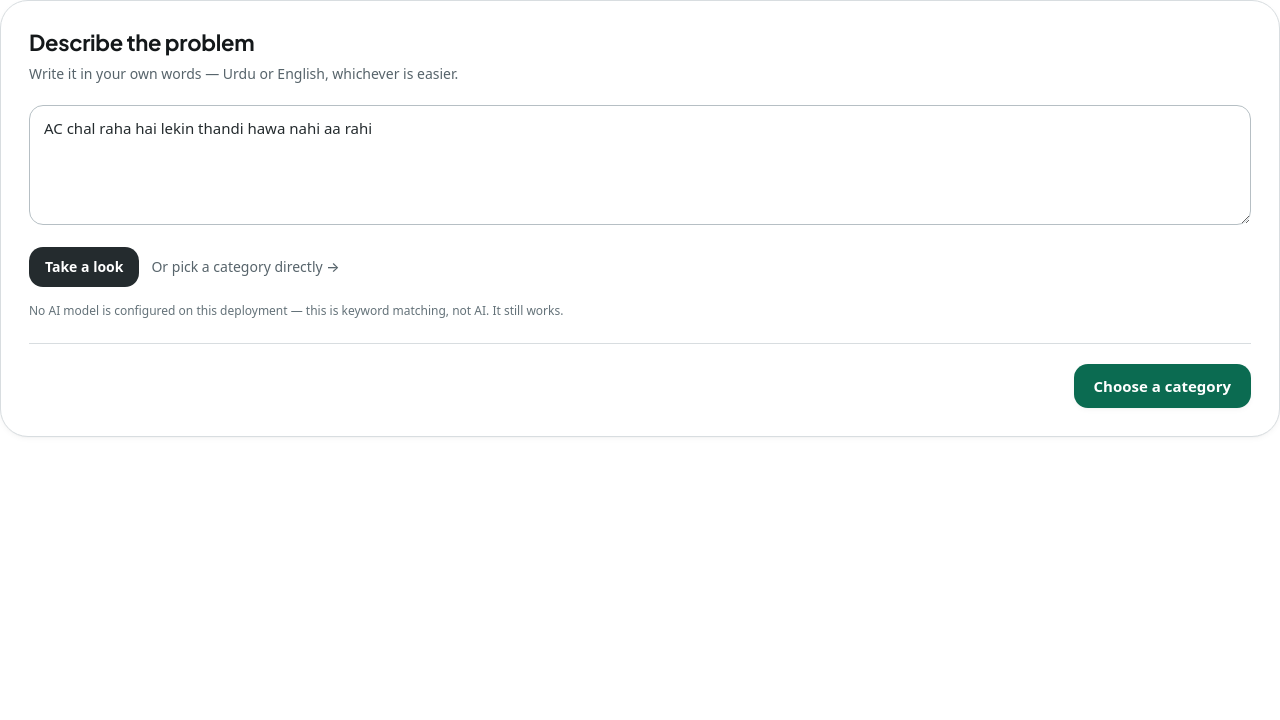
Test: intake step › labels a rule-based answer as rule-based, not as AI
The width and height of the screenshot is (1280, 720).
Click the button "Take a look": point(84, 267) [29,247,139,287]
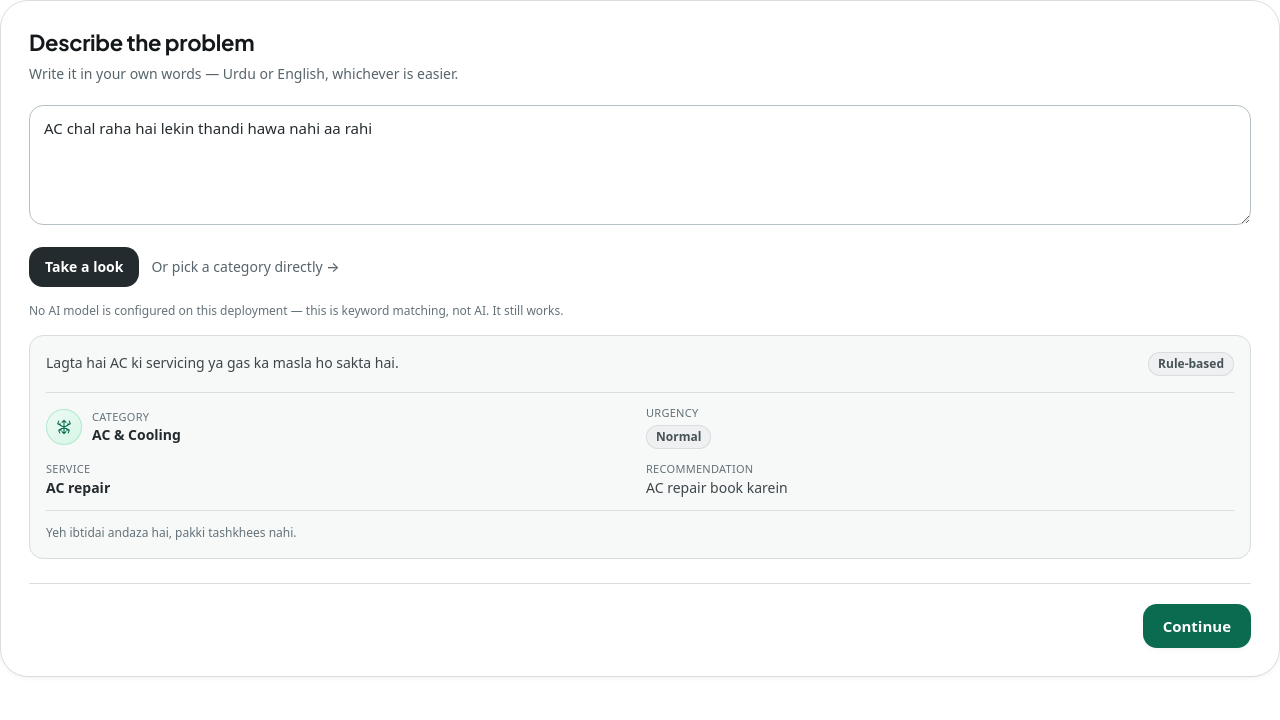
Expected: the text "Rule-based" is shown, [1148,352,1234,376]
